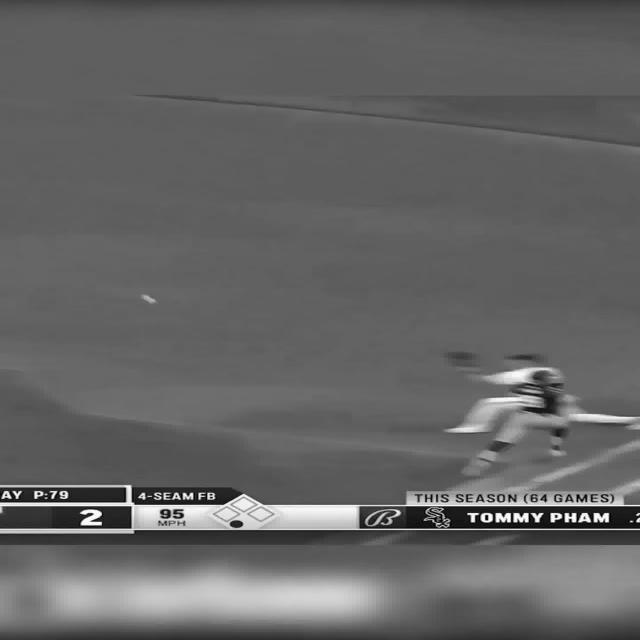baseball: (140, 294, 157, 304)
baseball_glove: (447, 351, 475, 369)
shoe: (459, 456, 493, 476), (442, 426, 490, 433), (623, 416, 639, 430), (548, 448, 566, 457)
